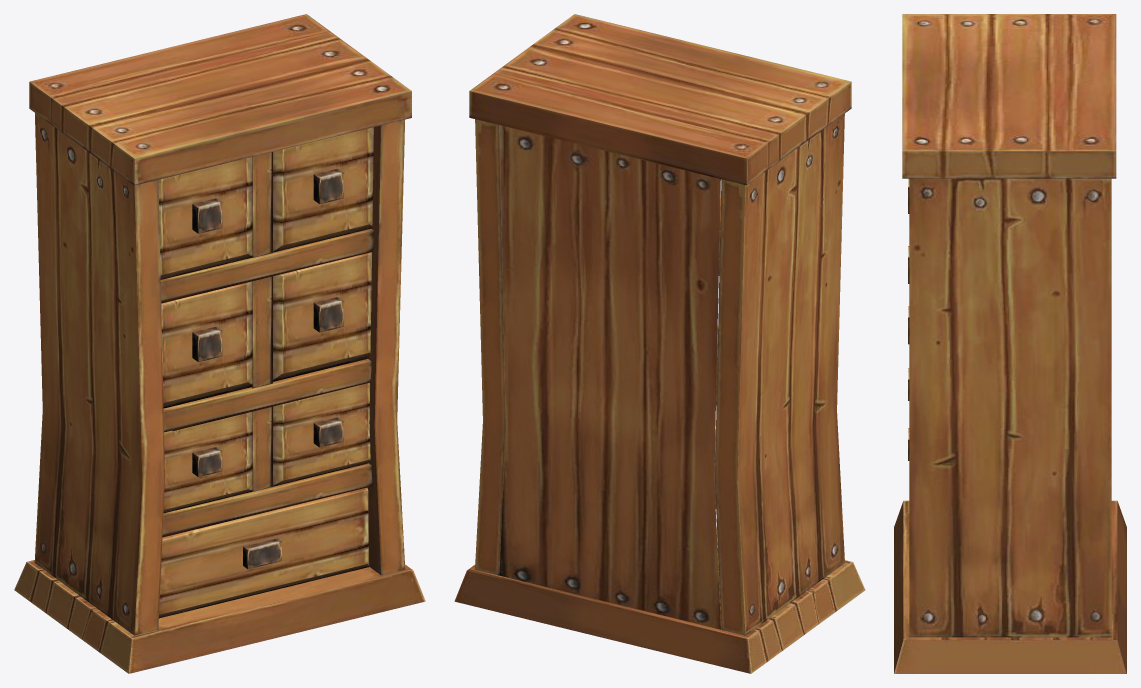
The model's file is SM_cupboard_00.gltf.
The picture shows the model from 3 angles, left to right: view 1: azimuth 30°, elevation 25°; view 2: azimuth 150°, elevation 25°; view 3: azimuth 270°, elevation 25°; orthographic projection.
Visible parts, largest first — view 1: SM_cupboard_00; view 2: SM_cupboard_00; view 3: SM_cupboard_00.
Part boxes in pixels (x1=…): SM_cupboard_00: x1=14, y1=14, x2=425, y2=673; SM_cupboard_00: x1=454, y1=14, x2=865, y2=673; SM_cupboard_00: x1=894, y1=14, x2=1126, y2=673.
Bounding box in the file's own units: 0.9993 × 1.64 × 0.6677.
Materials: 1 (1 with a texture image).
